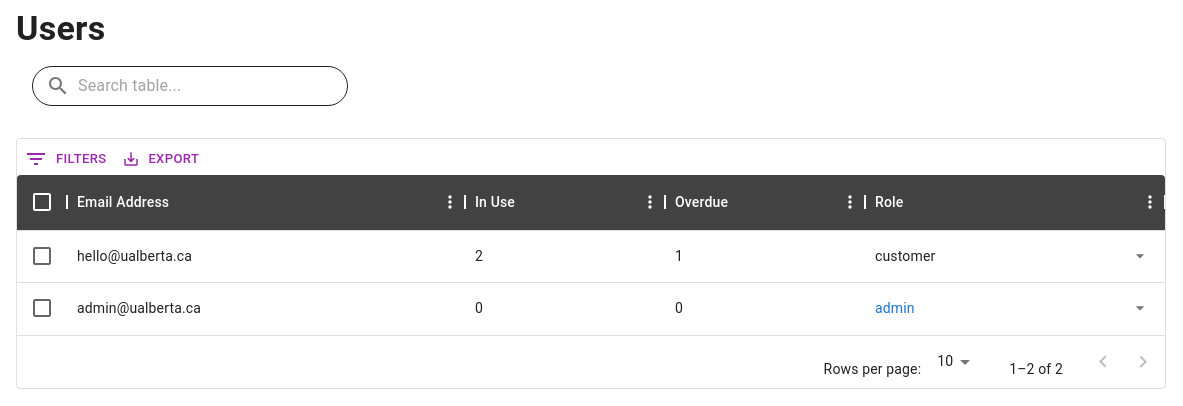
Test: filters visible rows when searching by email
Expected: the text "hello@ualberta.ca" is shown, [77, 246, 192, 266]
In the field with placeholder "Search table...": (188, 86) [78, 66, 298, 106], type "hello"
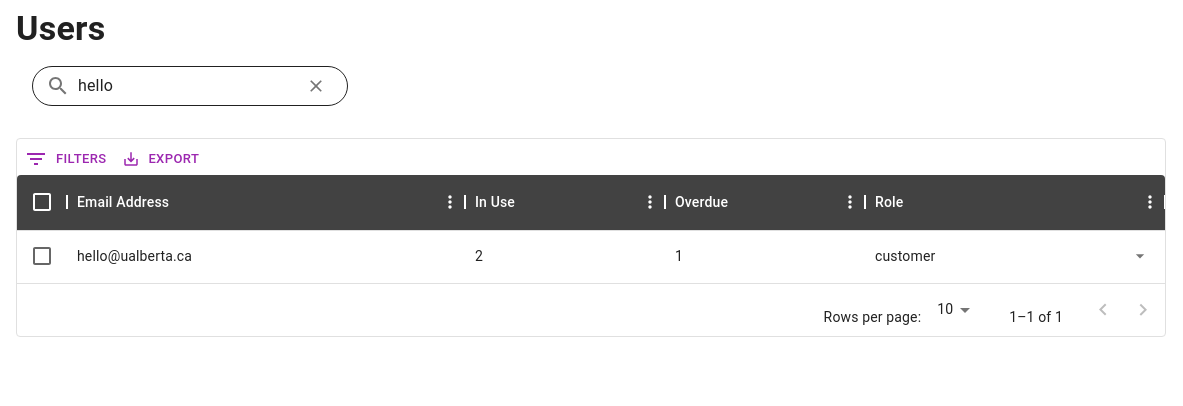
Expected: the text "hello@ualberta.ca" is shown, [77, 246, 192, 266]
Now the text "admin@ualberta.ca" is gone
